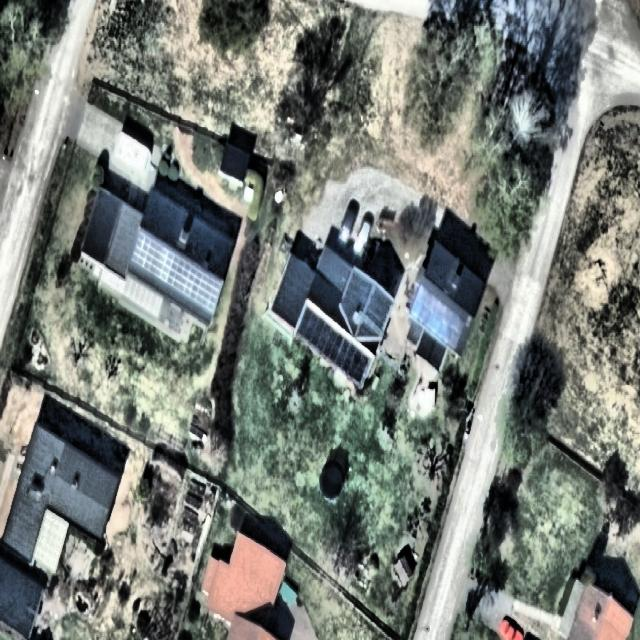roof_pv: (165, 250, 223, 314), (411, 282, 466, 348), (298, 300, 338, 360), (331, 329, 372, 384), (131, 236, 172, 283)
